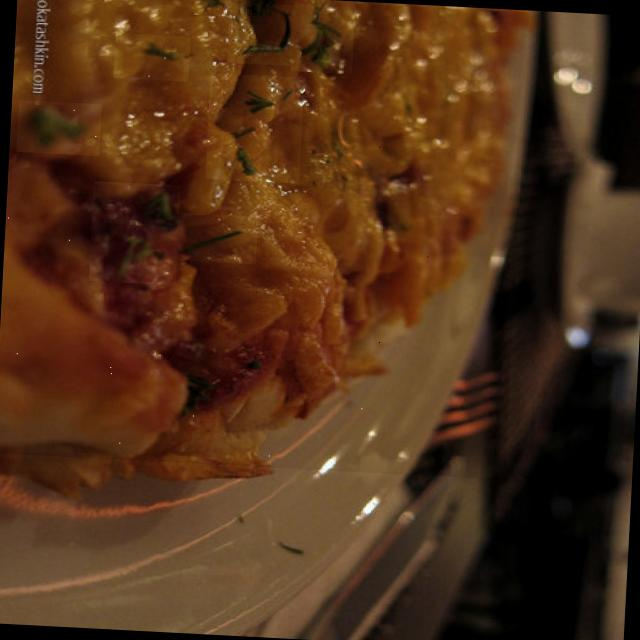basil: (205, 74, 302, 184), (88, 182, 179, 285), (226, 3, 306, 67), (290, 0, 354, 74), (15, 101, 100, 156), (171, 214, 256, 266), (112, 34, 188, 82), (193, 0, 242, 17)
pizza: (0, 0, 528, 455)
